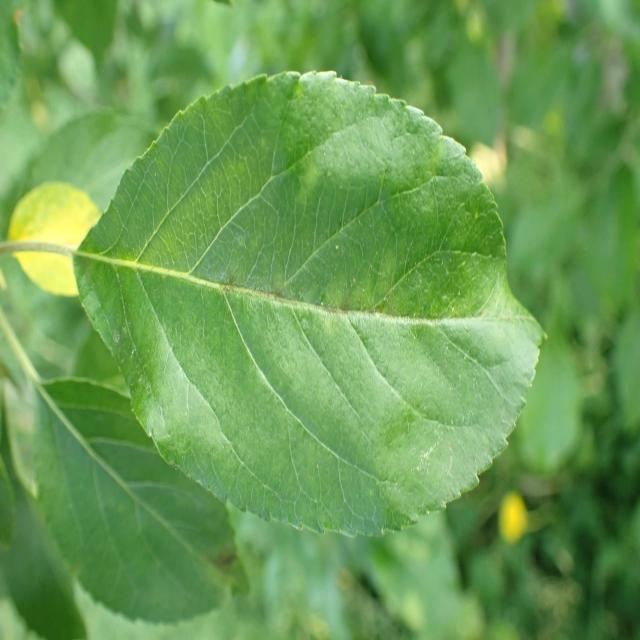scab: (129, 105, 517, 397)
